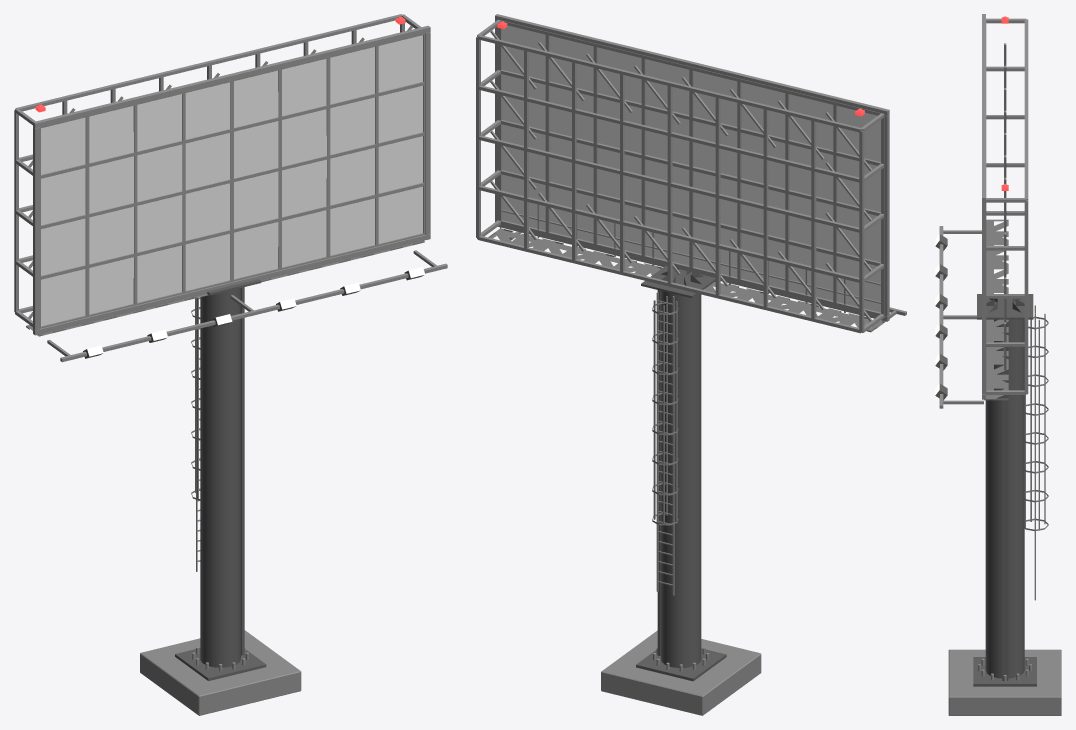
File: billboard.glb
3 views of the same model, side by side, from view 1: azimuth 30°, elevation 25°; view 2: azimuth 150°, elevation 25°; view 3: azimuth 270°, elevation 25° (orthographic). The views are drawn at different scales.
Visible parts, largest first — view 1: BOARD_FACE, BILLBOARD; view 2: BILLBOARD, BOARD_FACE; view 3: BILLBOARD.
Part boxes in pixels (x1,y1,x2,y2): BOARD_FACE: (41,35,422,326); BILLBOARD: (14,14,447,715); BILLBOARD: (476,14,906,715); BOARD_FACE: (502,25,880,312); BILLBOARD: (935,14,1061,715).
Size of the model in its own units: 17.05 by 25.62 by 4.96.
Materials: 7 (1 with a texture image).
